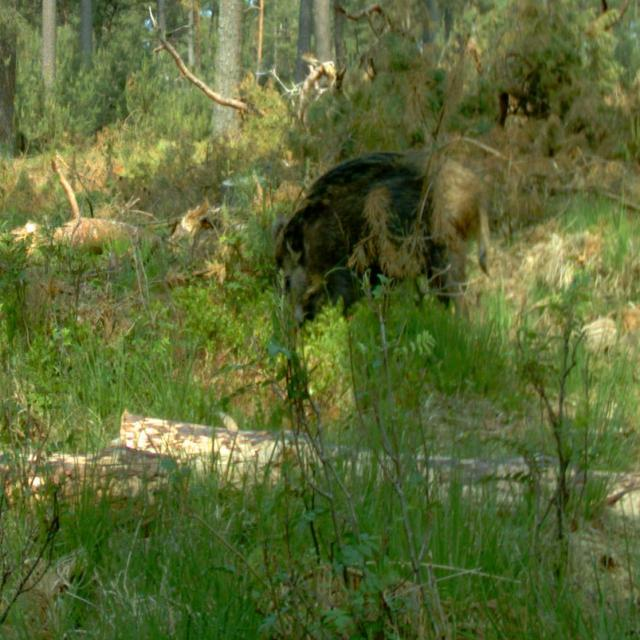pig: (258, 138, 536, 334)
